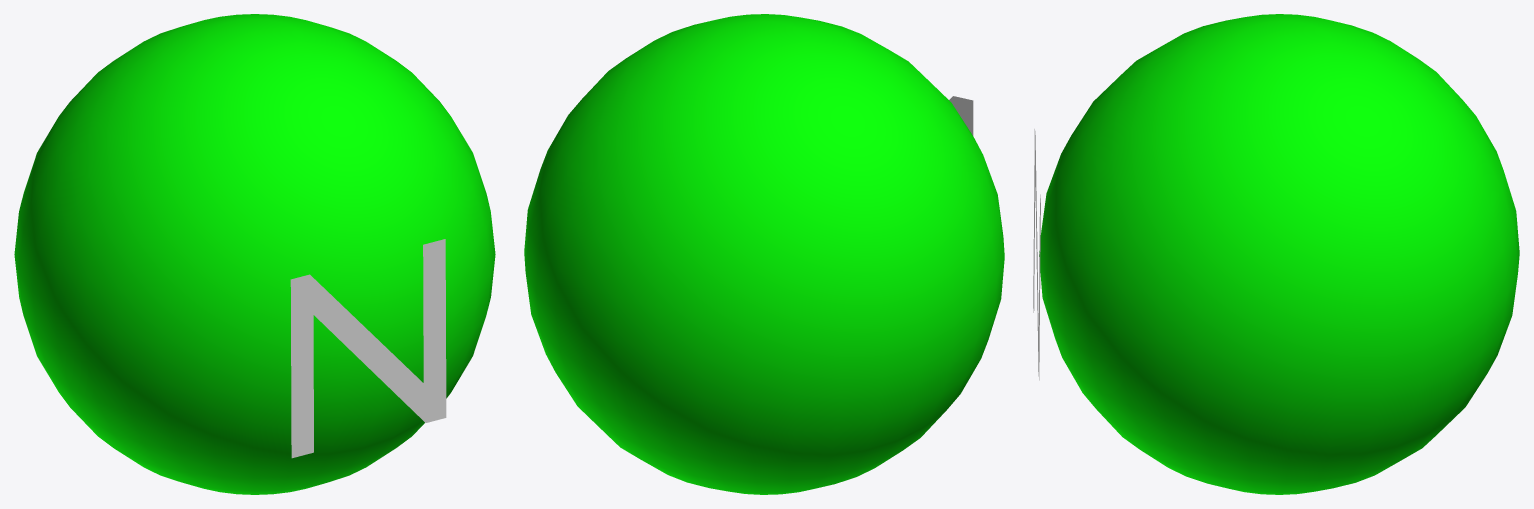
The picture shows the model from 3 angles, left to right: view 1: azimuth 30°, elevation 25°; view 2: azimuth 150°, elevation 25°; view 3: azimuth 270°, elevation 25°; orthographic projection.
Parts seen in each view (by area): view 1: 구체, 텍스트; view 2: 구체; view 3: 구체, 텍스트.
Boxes of the visible parts, x1,y1,x2,y2 form: 구체: (14,14,495,494); 텍스트: (290,239,446,458); 구체: (524,14,1004,494); 구체: (1039,14,1519,494); 텍스트: (1033,129,1040,380).
Size of the model in its own units: 250 by 250 by 252.
